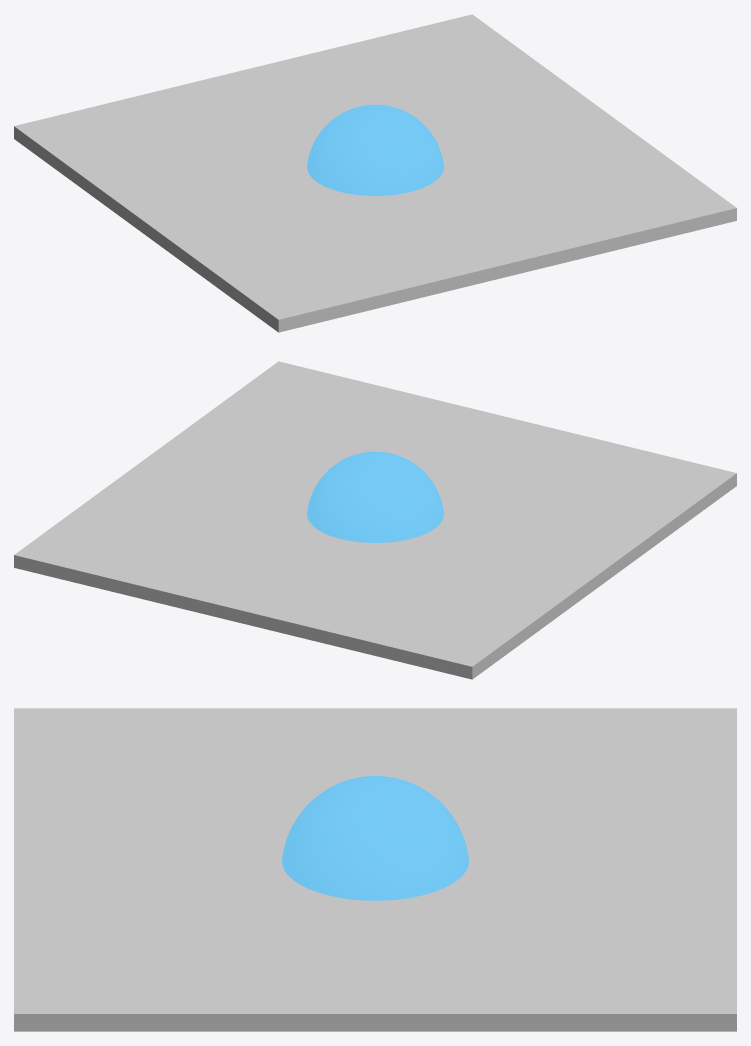
The model's file is blackhole.glb.
The picture shows the model from 3 angles, top to bottom: view 1: azimuth 30°, elevation 25°; view 2: azimuth 150°, elevation 25°; view 3: azimuth 270°, elevation 25°; orthographic projection. The views are drawn at different scales.
Parts seen in each view (by area): view 1: 立方体, ICO球; view 2: 立方体, ICO球; view 3: 立方体, ICO球.
Boxes of the visible parts, bbox=[...] form: 立方体: bbox=[14, 14, 736, 332]; ICO球: bbox=[307, 104, 443, 195]; 立方体: bbox=[14, 361, 736, 679]; ICO球: bbox=[307, 451, 443, 542]; 立方体: bbox=[14, 708, 736, 1031]; ICO球: bbox=[282, 776, 468, 900].
Bounding box in the file's own units: 7.69 × 2 × 7.69.
